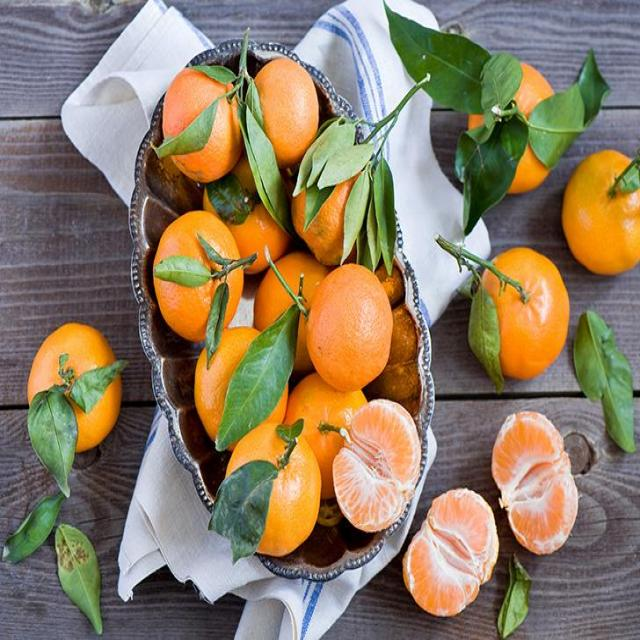10_tangerine: (20, 318, 128, 466), (489, 402, 585, 562), (467, 247, 577, 386), (221, 417, 322, 566), (190, 319, 294, 457), (462, 57, 561, 193), (152, 205, 248, 344), (334, 393, 423, 538), (404, 484, 500, 618), (304, 264, 397, 394), (155, 61, 244, 185), (563, 146, 640, 280), (288, 150, 375, 263), (243, 54, 322, 162)
